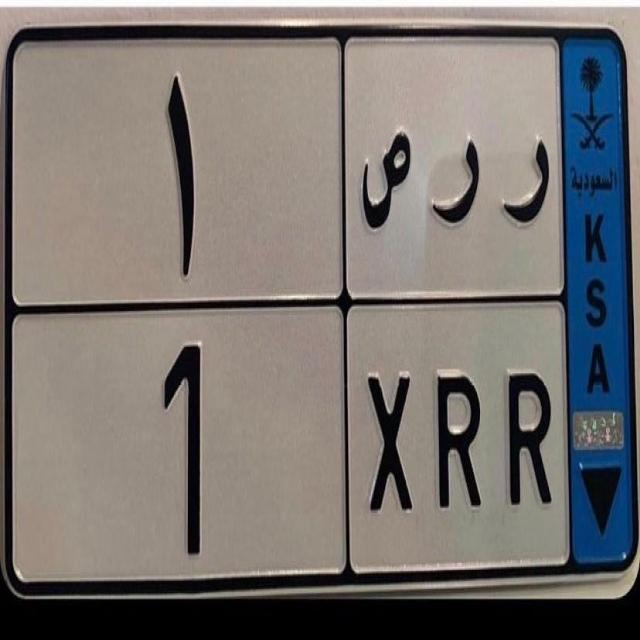license_plate: (106, 336, 558, 562)
